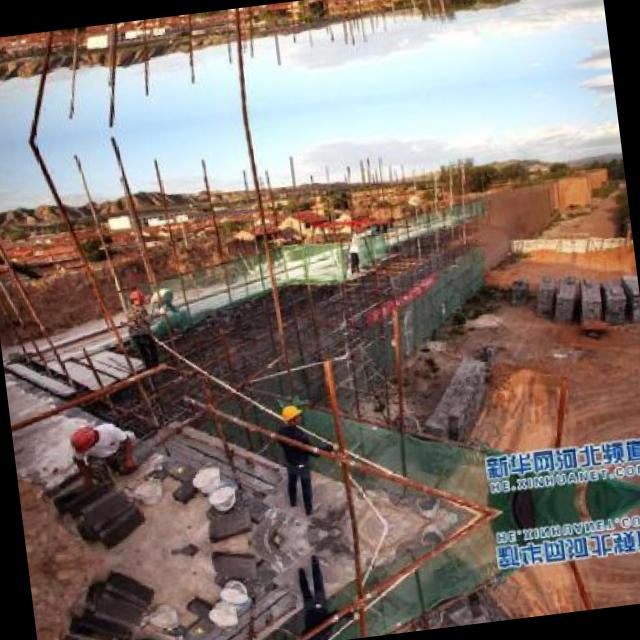helmet: (68, 421, 102, 454), (279, 399, 303, 426), (127, 284, 144, 306)
